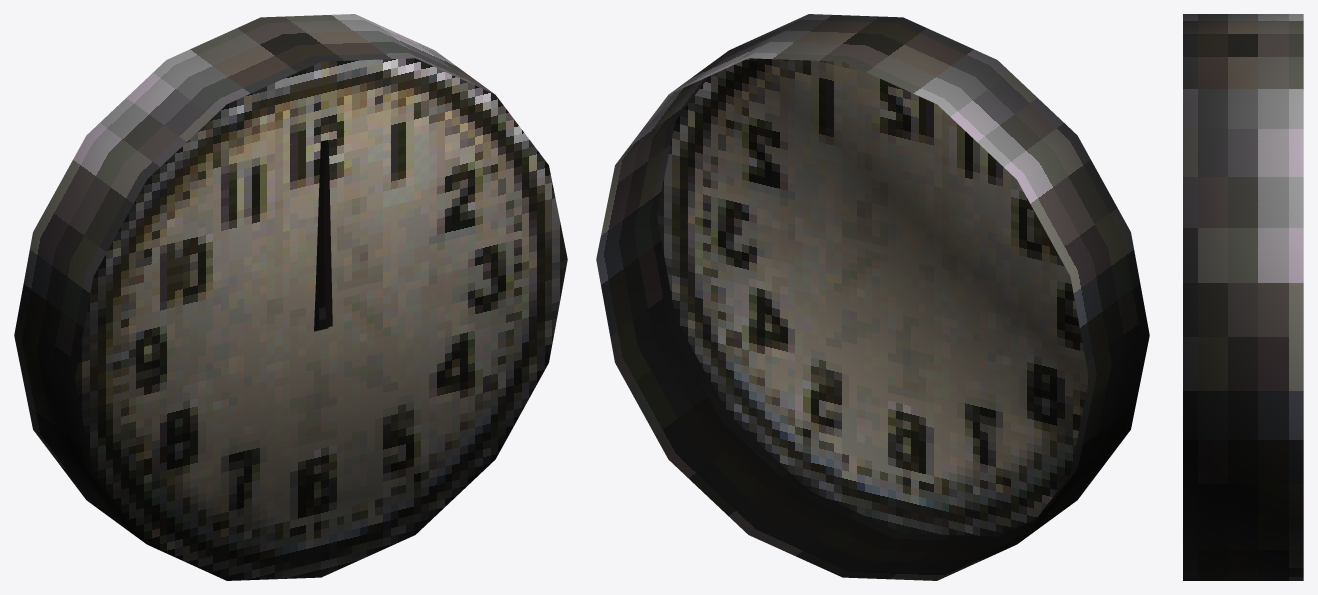
The model's file is Clock.fbx.
3 renders of one model, left to right at view 1: azimuth 30°, elevation 25°; view 2: azimuth 150°, elevation 25°; view 3: azimuth 270°, elevation 25°, orthographic.
Parts seen in each view (by area): view 1: Clock, Hours_Needle; view 2: Clock; view 3: Clock.
Part boxes in pixels (x1,y1,x2,y2): Clock: (14, 14, 567, 580); Hours_Needle: (314, 140, 332, 330); Clock: (596, 14, 1149, 580); Clock: (1183, 14, 1303, 580).
Size of the model in its own units: 0.282 by 0.282 by 0.0622.
1 material, 1 textured.
